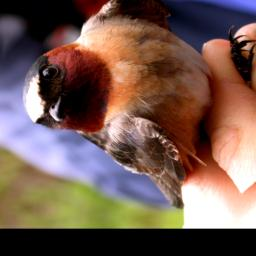Swallow: (5, 0, 256, 213)
